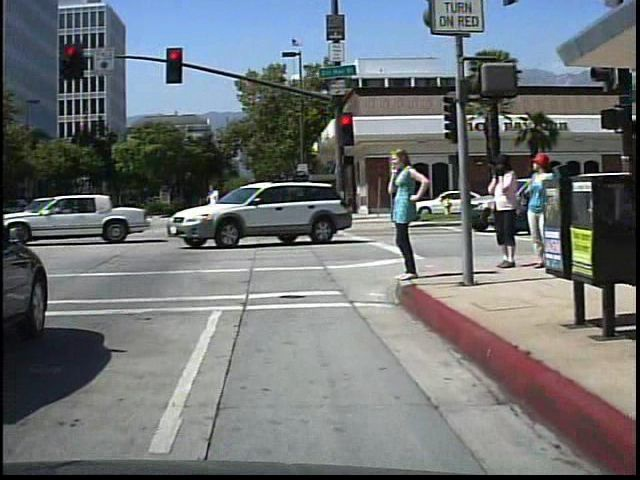person: (383, 146, 429, 288), (518, 146, 559, 271), (479, 148, 520, 270)
